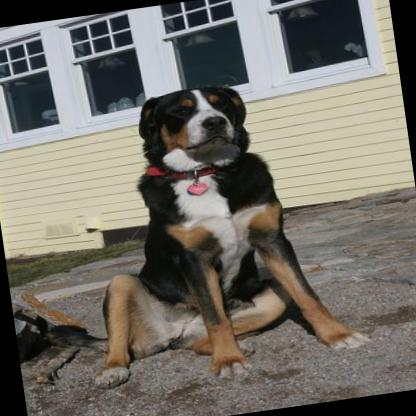Greater_Swiss_Mountain_dog: (50, 65, 374, 398)
